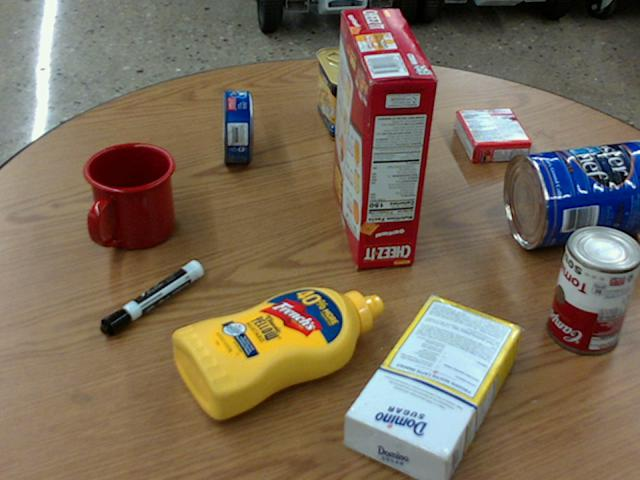cracker_box: (332, 8, 436, 267)
gelatin_box: (454, 108, 530, 162)
large_marker: (99, 259, 202, 334)
master_chef_can: (504, 138, 639, 248)
mug: (83, 143, 175, 250)
mustard_bottle: (171, 285, 382, 420)
potted_meat_can: (315, 47, 374, 141)
sugar_box: (342, 294, 521, 479)
tomato_soup_can: (548, 223, 639, 351)
tuna_fish_can: (222, 89, 252, 162)
